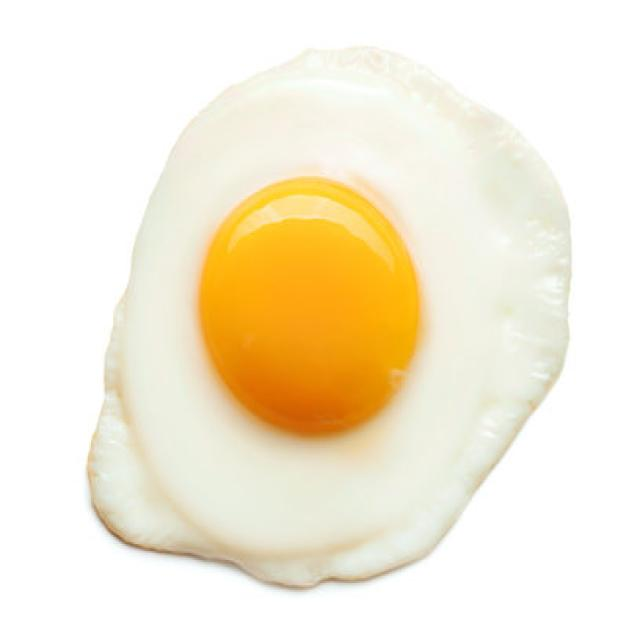Egg: (88, 48, 569, 586)
